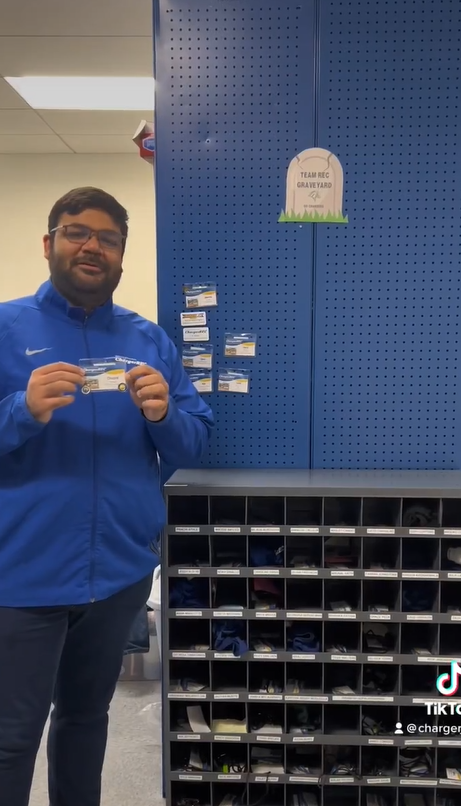Staff: (8, 171, 196, 471)
